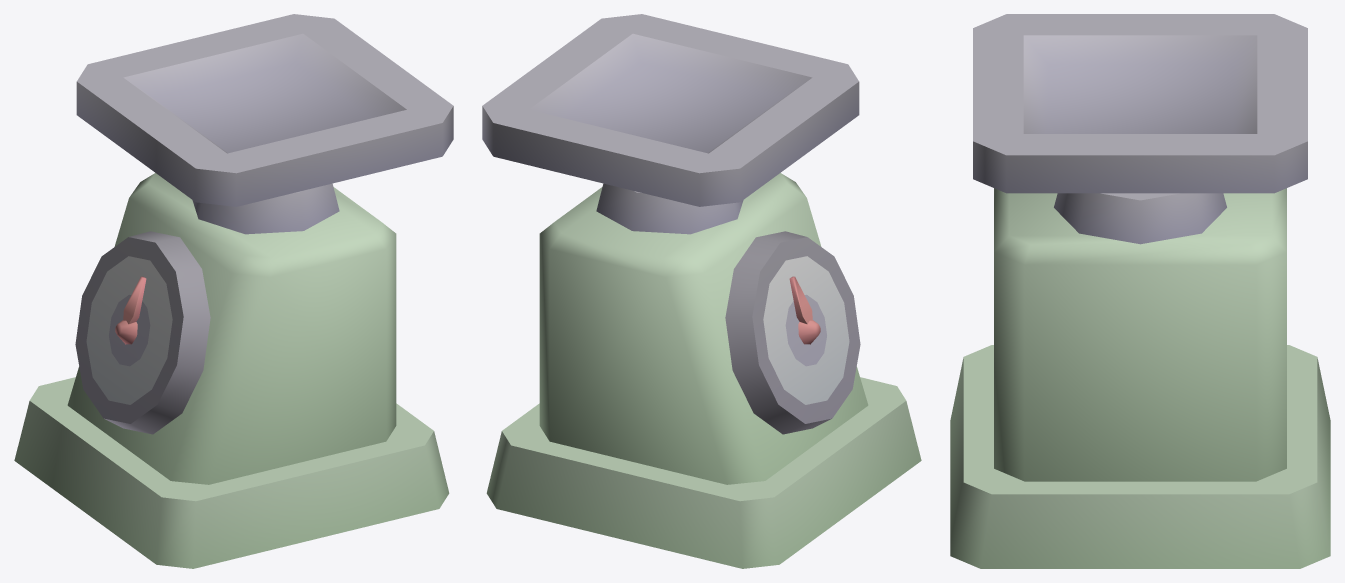
The model's file is scale (%secret).glb.
The picture shows the model from 3 angles, left to right: view 1: azimuth 30°, elevation 25°; view 2: azimuth 150°, elevation 25°; view 3: azimuth 270°, elevation 25°; orthographic projection. The views are drawn at different scales.
Parts seen in each view (by area): view 1: scale (%secret); view 2: scale (%secret); view 3: scale (%secret).
Boxes of the visible parts, x1,y1,x2,y2 form: scale (%secret): (14,14,453,568); scale (%secret): (482,14,921,568); scale (%secret): (950,14,1330,568).
Bounding box in the file's own units: 0.2635 × 0.3061 × 0.25.
